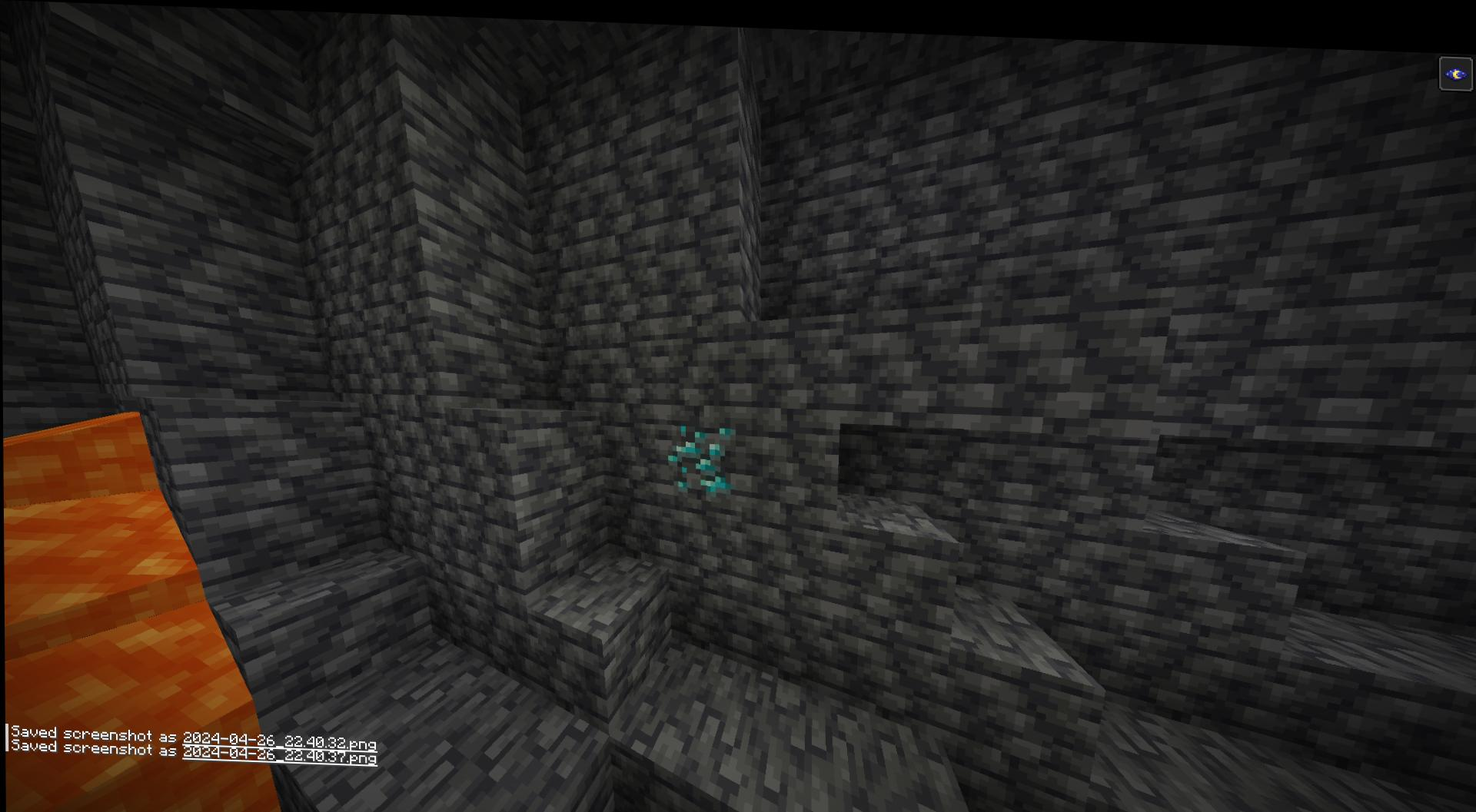diamond ore: (665, 413, 732, 494)
